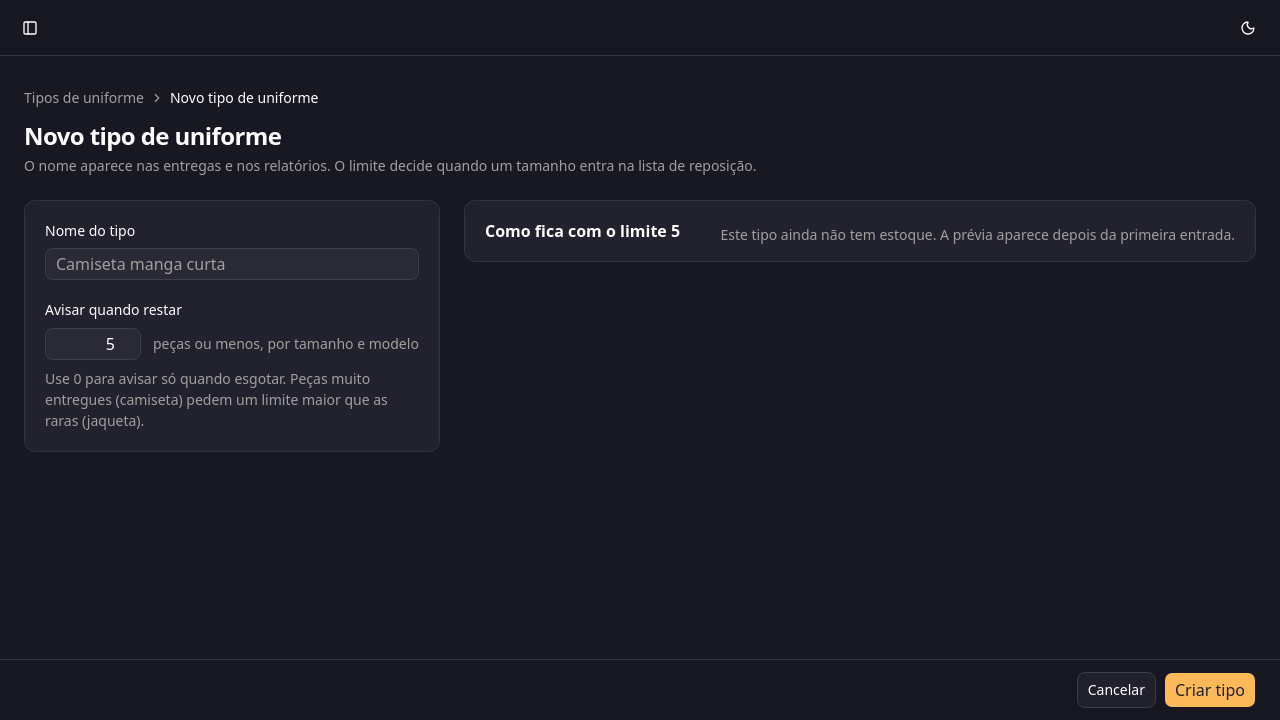
it: TipoUniformeFormPage › recusa limite negativo
Type "Jaqueta" into the field labelled "Nome do tipo".
click(232, 264); type("Jaqueta")  # box [45,248,419,280]
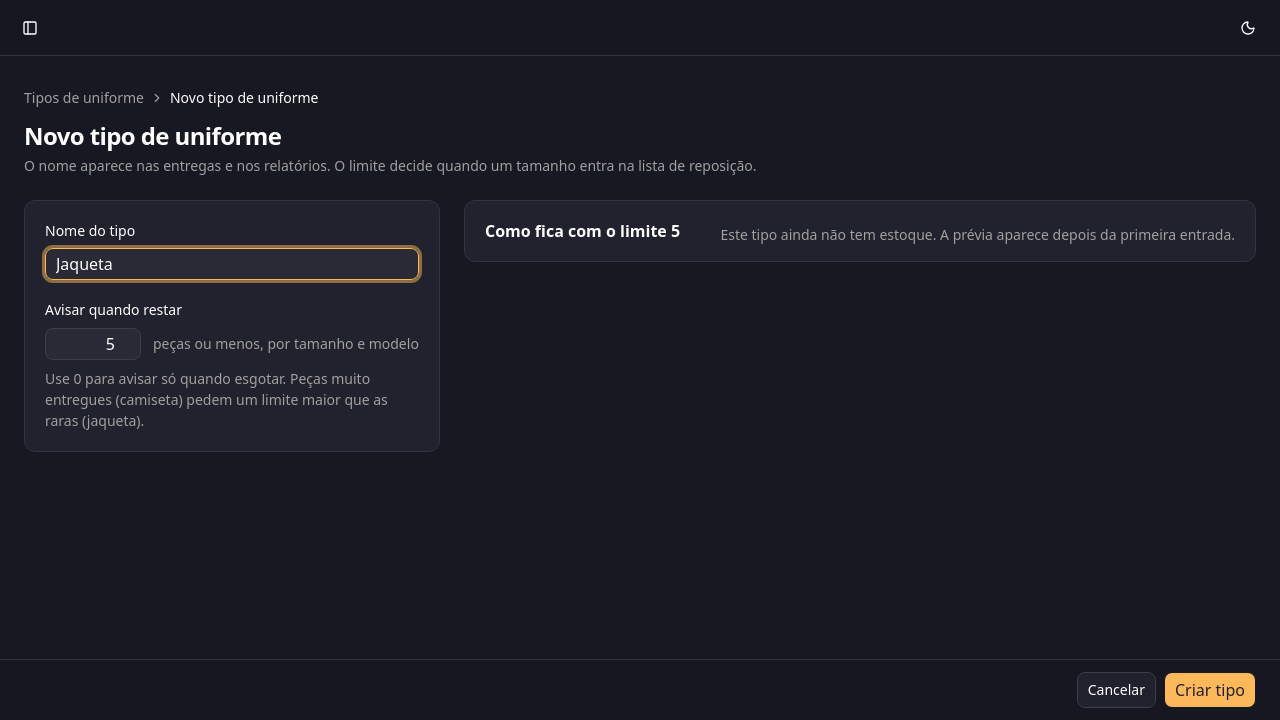
Replace the text in the number field labelled "Avisar quando restar" with "-1" at (93, 344), box [45,328,141,360]
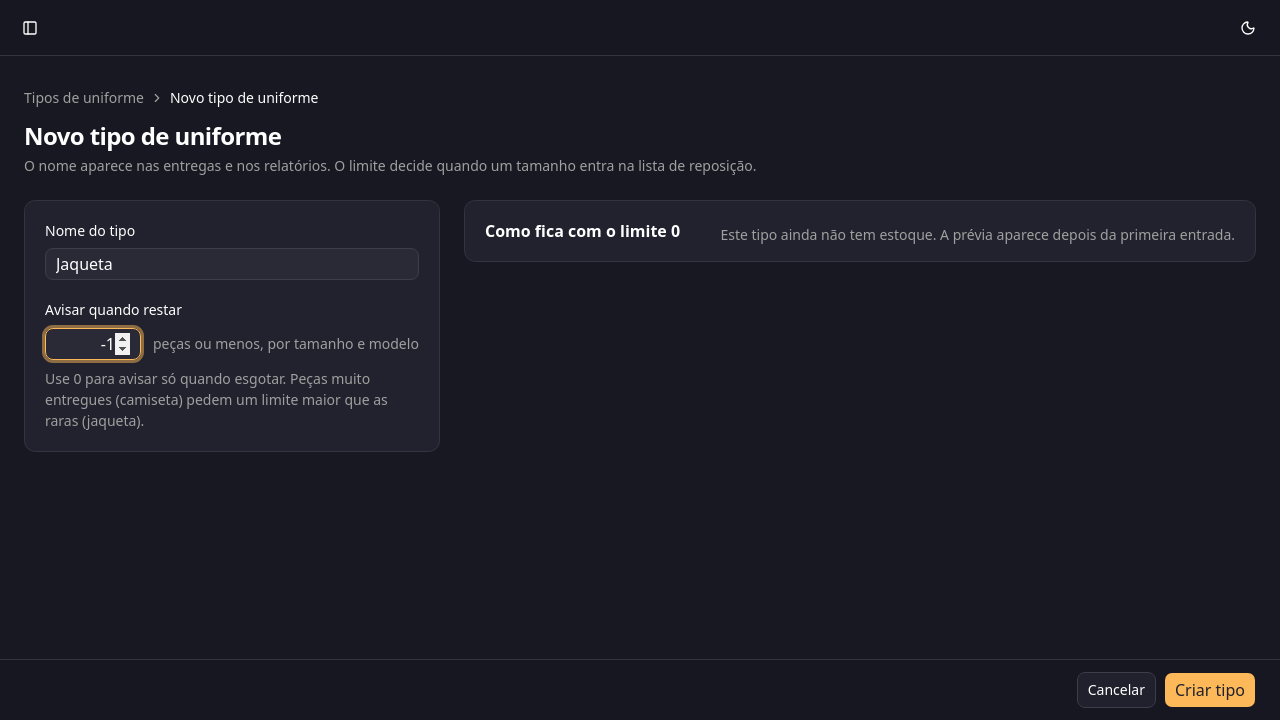
Click the button "Criar tipo".
click(1210, 690)  # box [1164,672,1256,708]
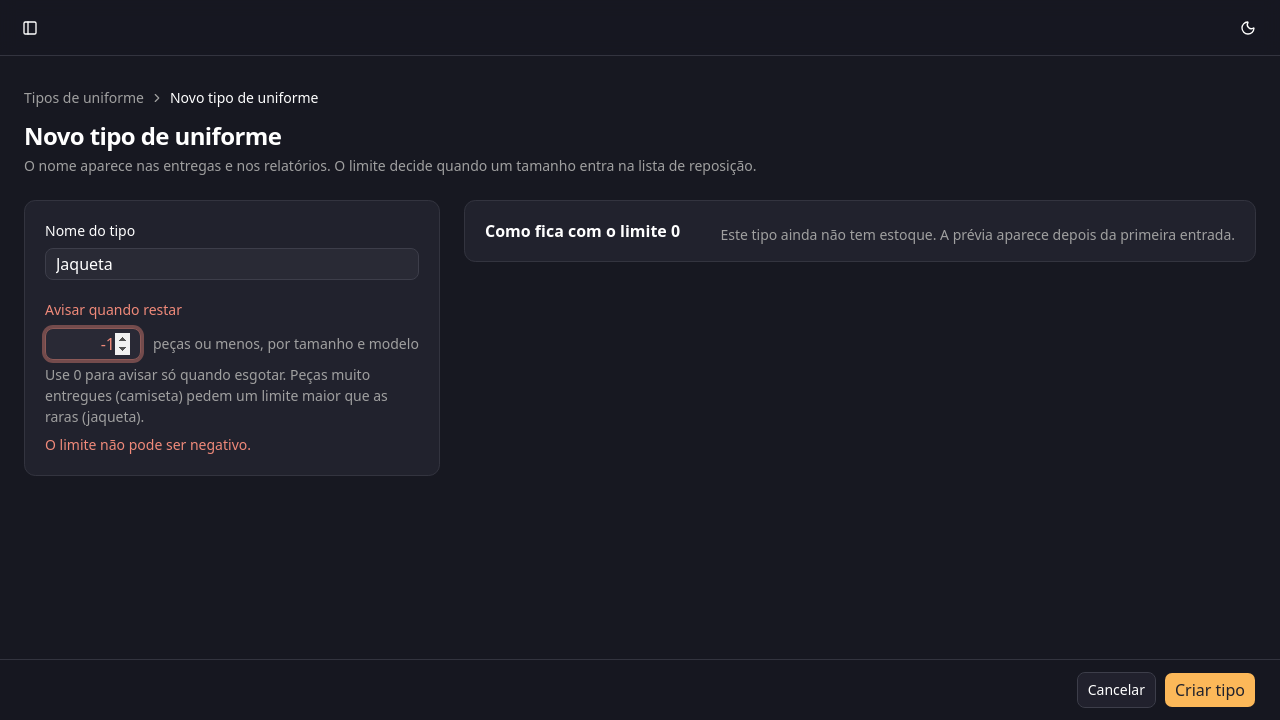
Now the text "O limite não pode ser negativo." is shown, box [45,434,251,454]
